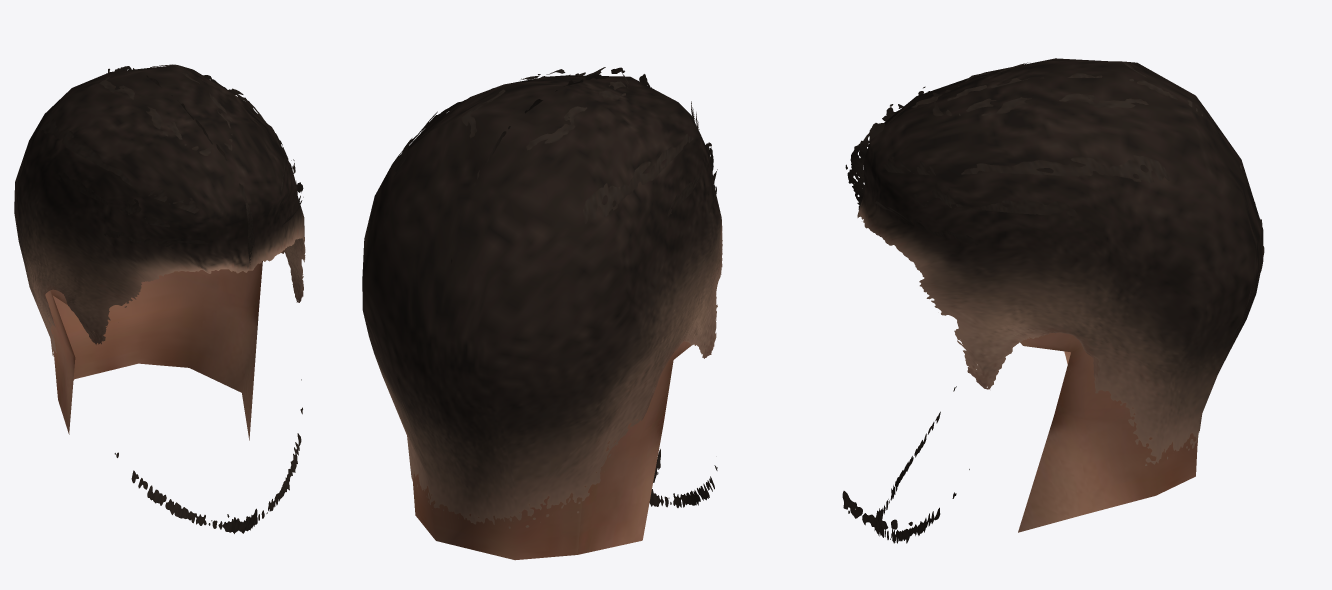
Rendered from hrv-gvardiol.glb.
The picture shows the model from 3 angles, left to right: view 1: azimuth 30°, elevation 25°; view 2: azimuth 150°, elevation 25°; view 3: azimuth 270°, elevation 25°; orthographic projection. The views are drawn at different scales.
Visible parts, largest first — view 1: hair; view 2: hair; view 3: hair.
Part boxes in pixels (box(x1,y1,x2,y2)): hair: box(14, 64, 305, 533); hair: box(362, 67, 722, 560); hair: box(842, 58, 1264, 543).
Bounding box in the file's own units: 0.1798 × 0.3022 × 0.27.
2 materials, 2 textured.
